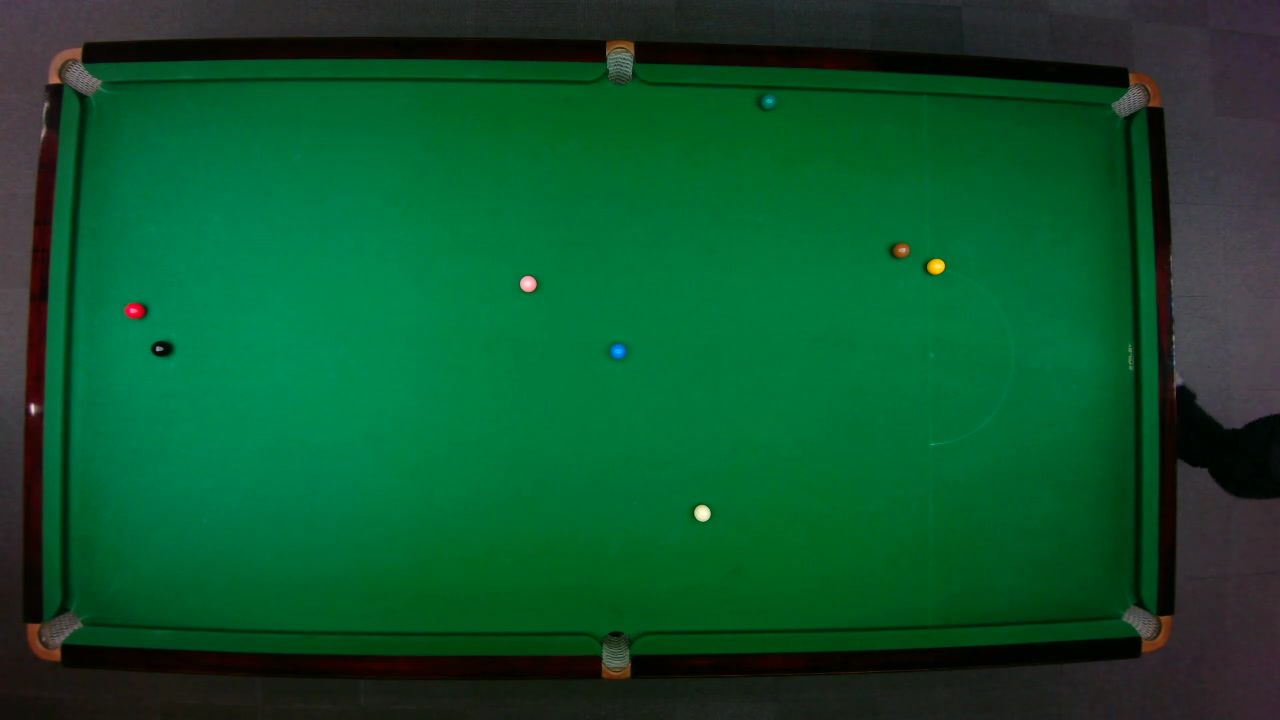bag: (25, 609, 83, 662), (45, 46, 101, 96), (1119, 603, 1172, 651), (1108, 71, 1161, 118), (600, 629, 629, 680), (605, 38, 633, 85)
black: (149, 339, 171, 357)
blue: (609, 342, 626, 359)
brown: (890, 241, 911, 258)
green: (759, 93, 776, 110)
pink: (517, 274, 537, 293)
red: (123, 301, 146, 319)
white: (692, 503, 711, 522)
yellow: (925, 256, 946, 275)
zone: (926, 264, 1013, 445)
